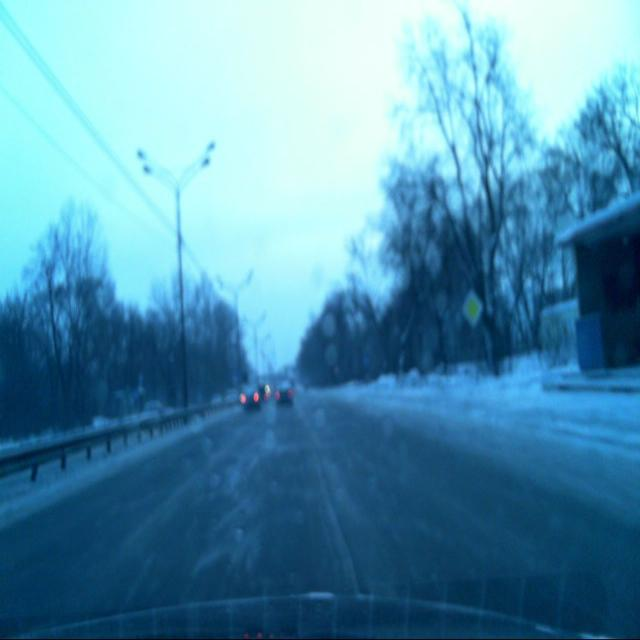road sign: (460, 289, 482, 324)
